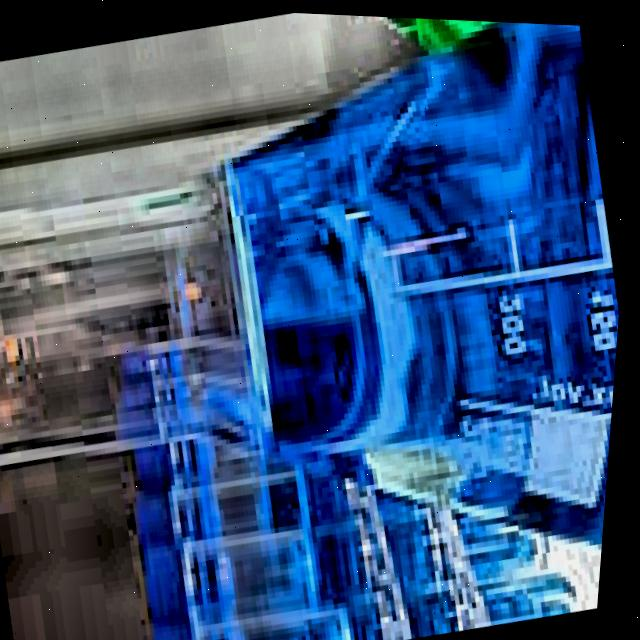glass: (0, 17, 623, 539)
